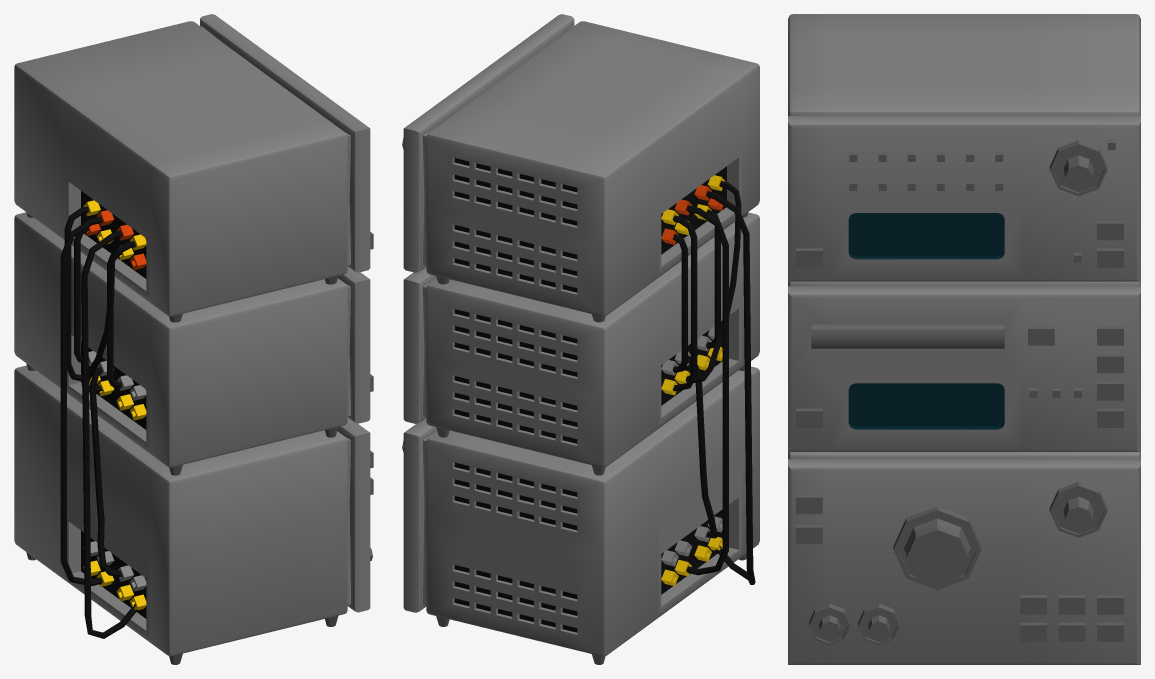
Rendered from Radio_04.glb.
3 renders of one model, left to right at view 1: azimuth 30°, elevation 25°; view 2: azimuth 150°, elevation 25°; view 3: azimuth 270°, elevation 25°, orthographic. The views are drawn at different scales.
Parts seen in each view (by area): view 1: Mesh_Radio_04; view 2: Mesh_Radio_04; view 3: Mesh_Radio_04.
Boxes of the visible parts, box(x1,y1,x2,y2) form: Mesh_Radio_04: box(14, 14, 373, 664); Mesh_Radio_04: box(402, 14, 759, 664); Mesh_Radio_04: box(788, 14, 1140, 664).
Bounding box in the file's own units: 0.3861 × 0.6967 × 0.4.
Materials: 1 (1 with a texture image).
